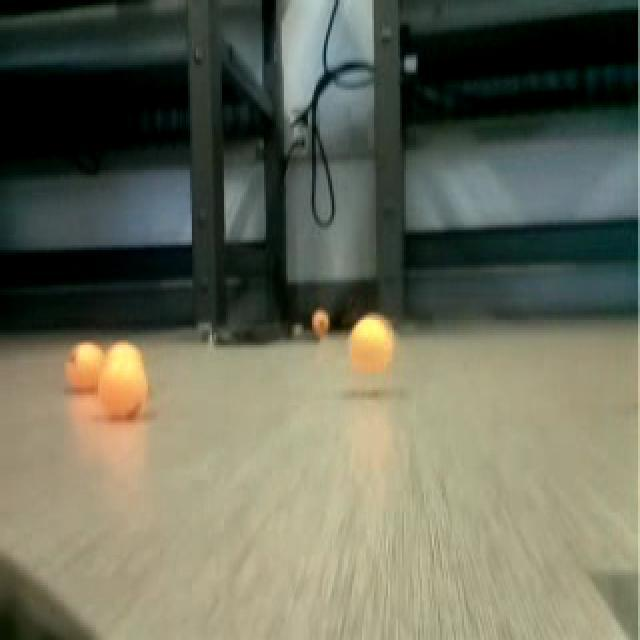oball: (344, 310, 400, 374), (100, 352, 150, 418), (66, 336, 103, 386), (310, 304, 338, 346)
